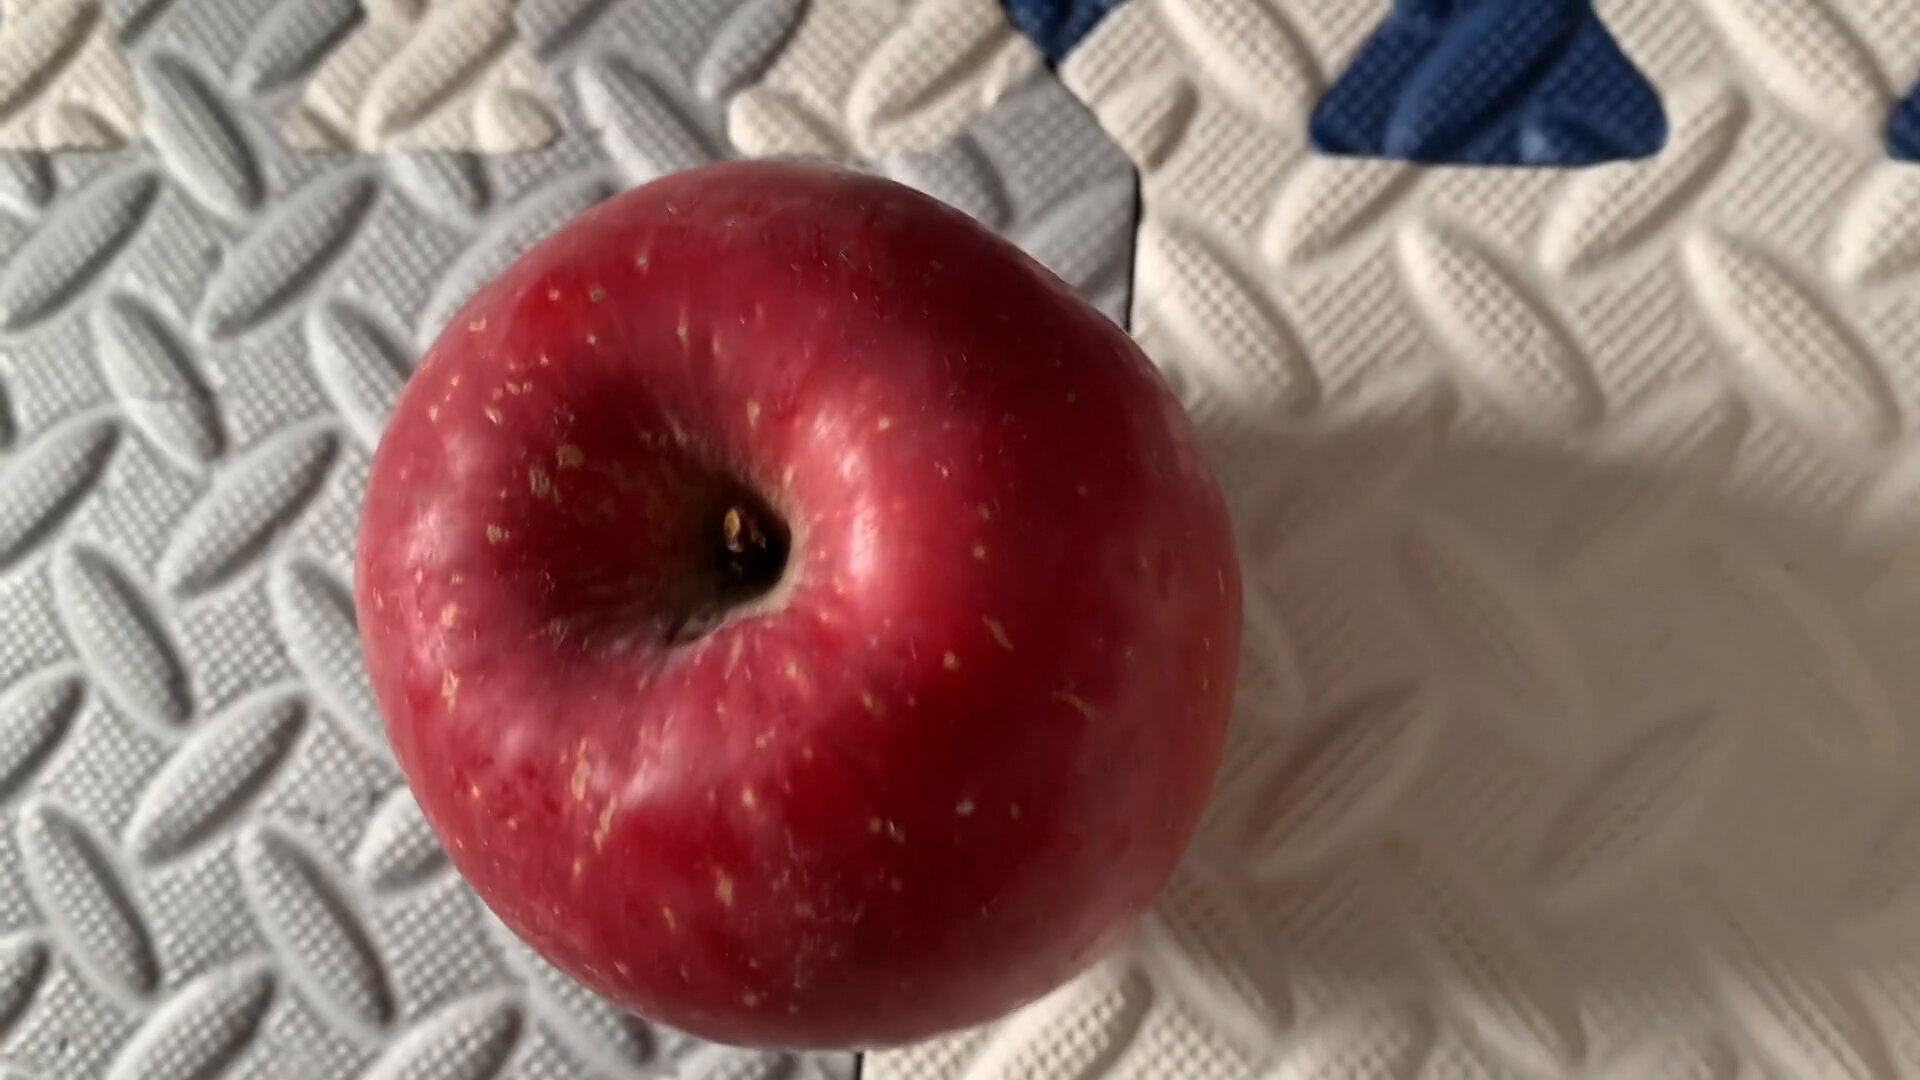不可回收水果: (334, 150, 1257, 1077)
